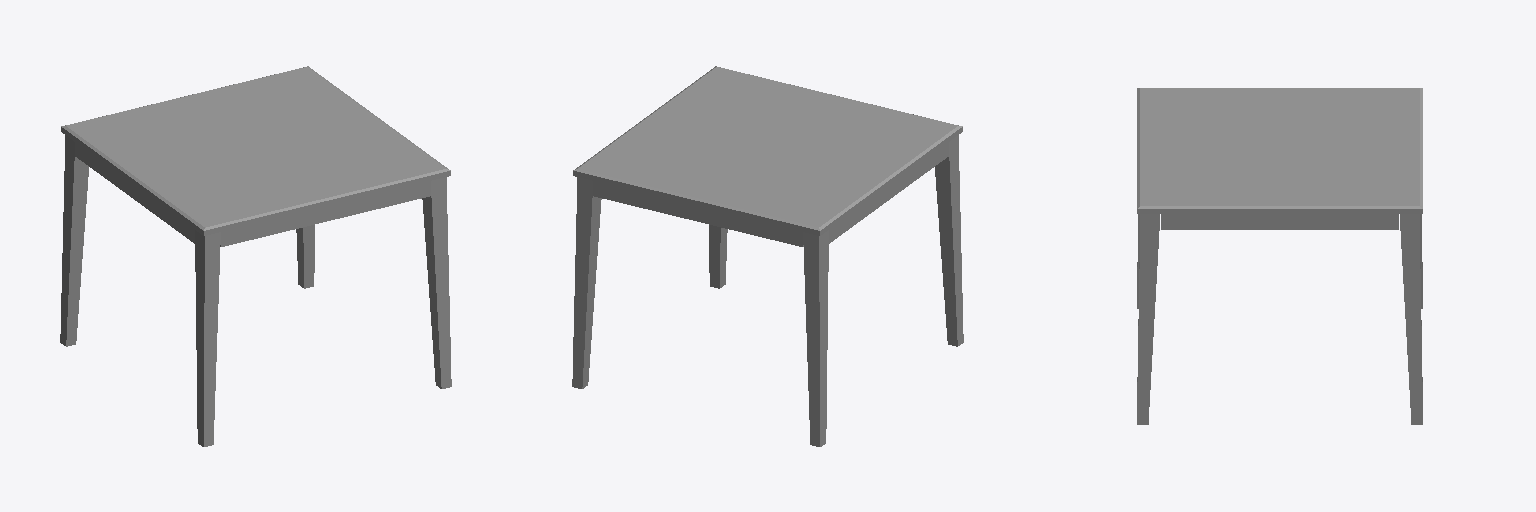
Rendered from side-table.obj.
3 views of the same model, side by side, from view 1: azimuth 30°, elevation 25°; view 2: azimuth 150°, elevation 25°; view 3: azimuth 270°, elevation 25° (orthographic).
Parts seen in each view (by area): view 1: stool.001_Cube.003; view 2: stool.001_Cube.003; view 3: stool.001_Cube.003.
Part boxes in pixels (x1,y1,x2,y2): stool.001_Cube.003: (60,66,451,446); stool.001_Cube.003: (572,66,963,446); stool.001_Cube.003: (1137,88,1422,424).
Size of the model in its own units: 0.4165 by 0.3491 by 0.4165.